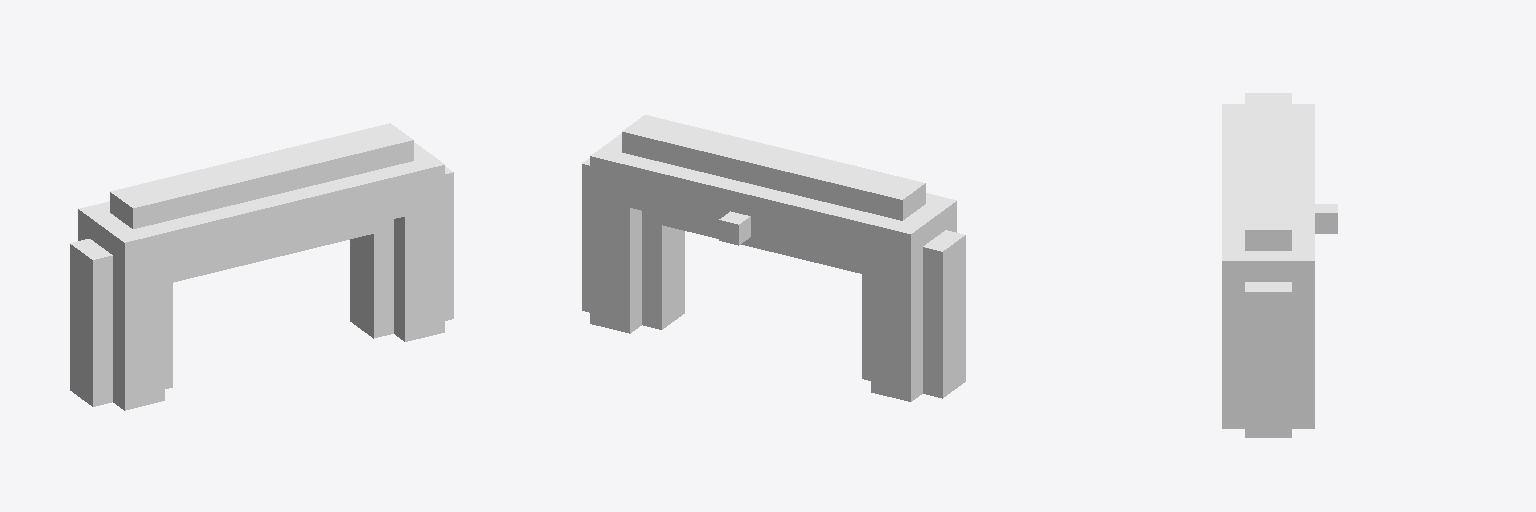
File: water_tank_mising_valve.obj
3 renders of one model, left to right at view 1: azimuth 30°, elevation 25°; view 2: azimuth 150°, elevation 25°; view 3: azimuth 270°, elevation 25°, orthographic.
Parts seen in each view (by area): view 1: object 1; view 2: object 1; view 3: object 1.
Boxes of the visible parts, <box> form: object 1: <box>70,123,453,410</box>; object 1: <box>582,115,965,401</box>; object 1: <box>1222,93,1337,437</box>.
Bounding box in the file's own units: 1.8 × 0.9 × 0.5.